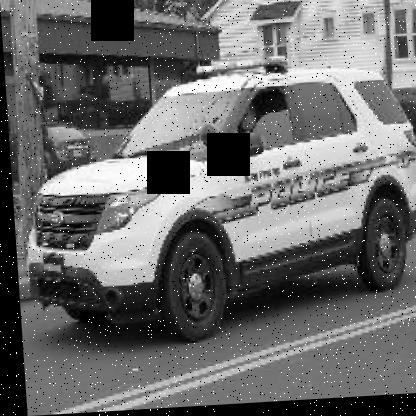emergency: (27, 41, 415, 354)
